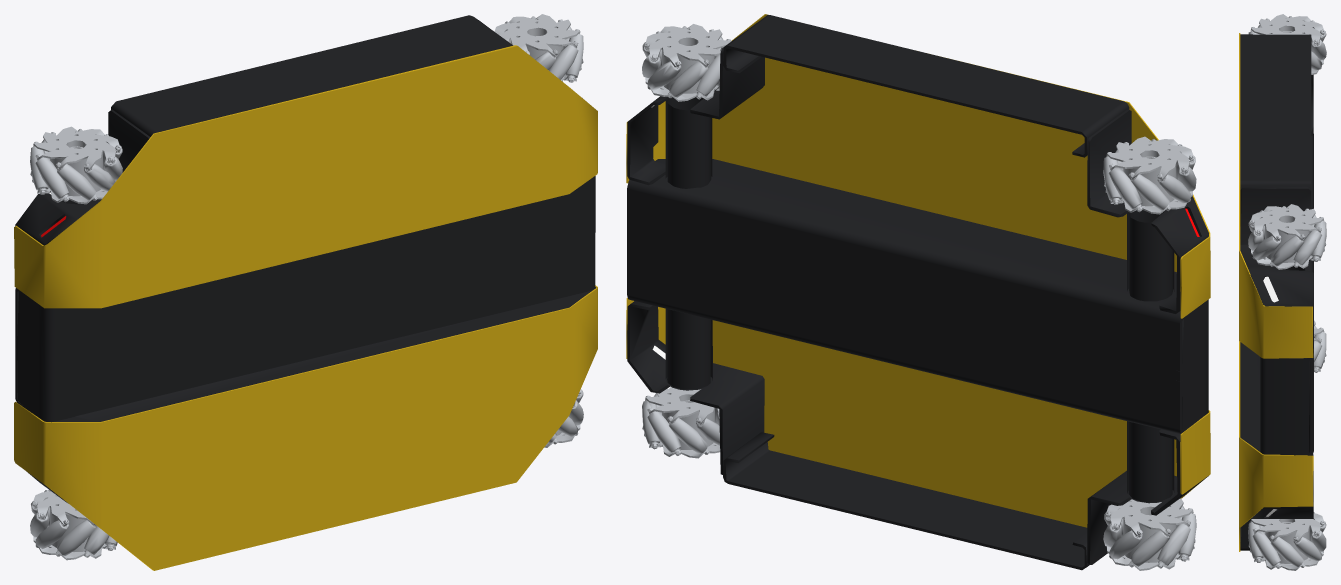
Rendered from dingo_o.glb.
The picture shows the model from 3 angles, left to right: view 1: azimuth 30°, elevation 25°; view 2: azimuth 150°, elevation 25°; view 3: azimuth 270°, elevation 25°; orthographic projection. The views are drawn at different scales.
Parts seen in each view (by area): view 1: base_link; view 2: base_link; view 3: base_link.
Boxes of the visible parts, <box> form: base_link: <box>14,14,597,570</box>; base_link: <box>626,14,1210,570</box>; base_link: <box>1239,14,1326,570</box>.
Bounding box in the file's own units: 0.6863 × 0.5172 × 0.1112.
